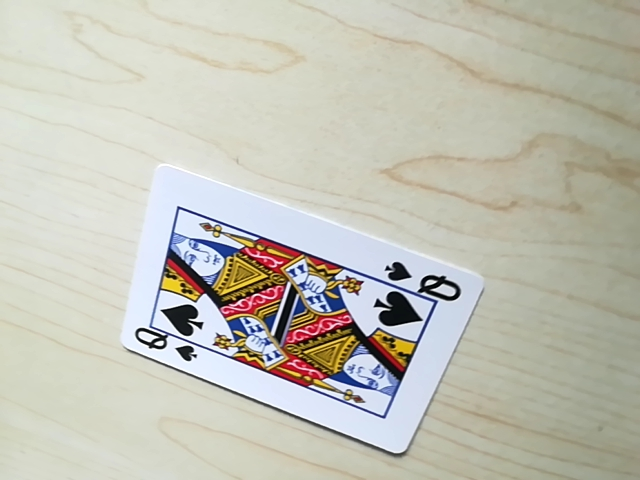ht q: (383, 261, 461, 298), (128, 328, 198, 366)
